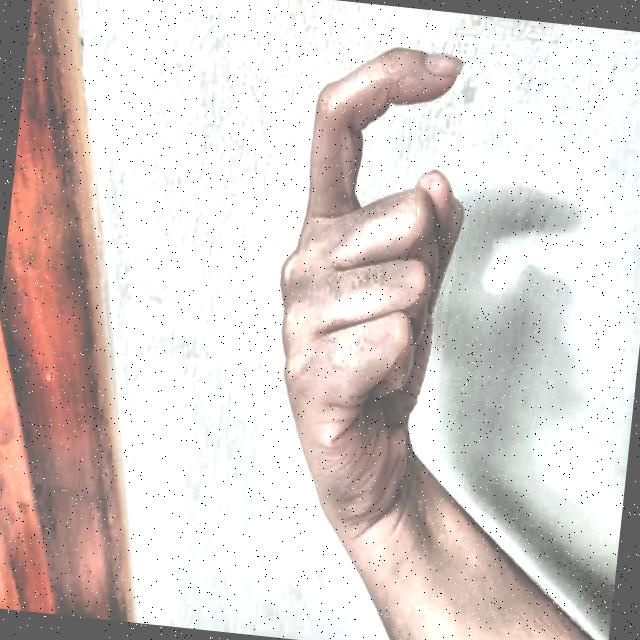E: (234, 8, 536, 532)
